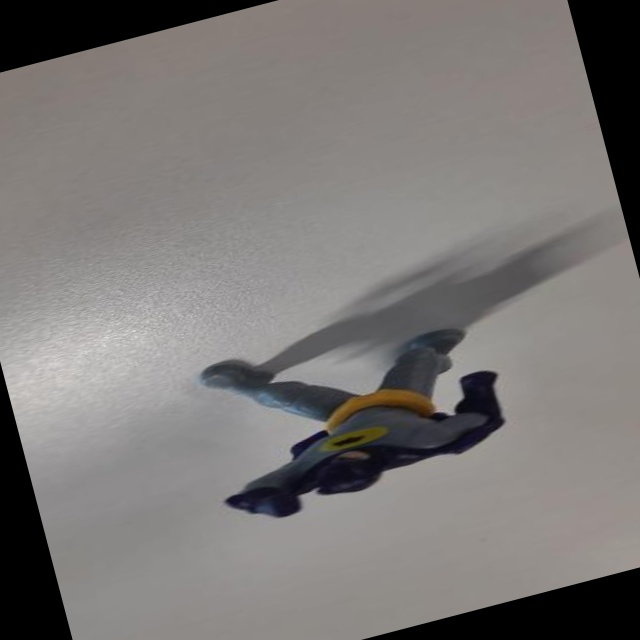Batman: (173, 290, 536, 541)
